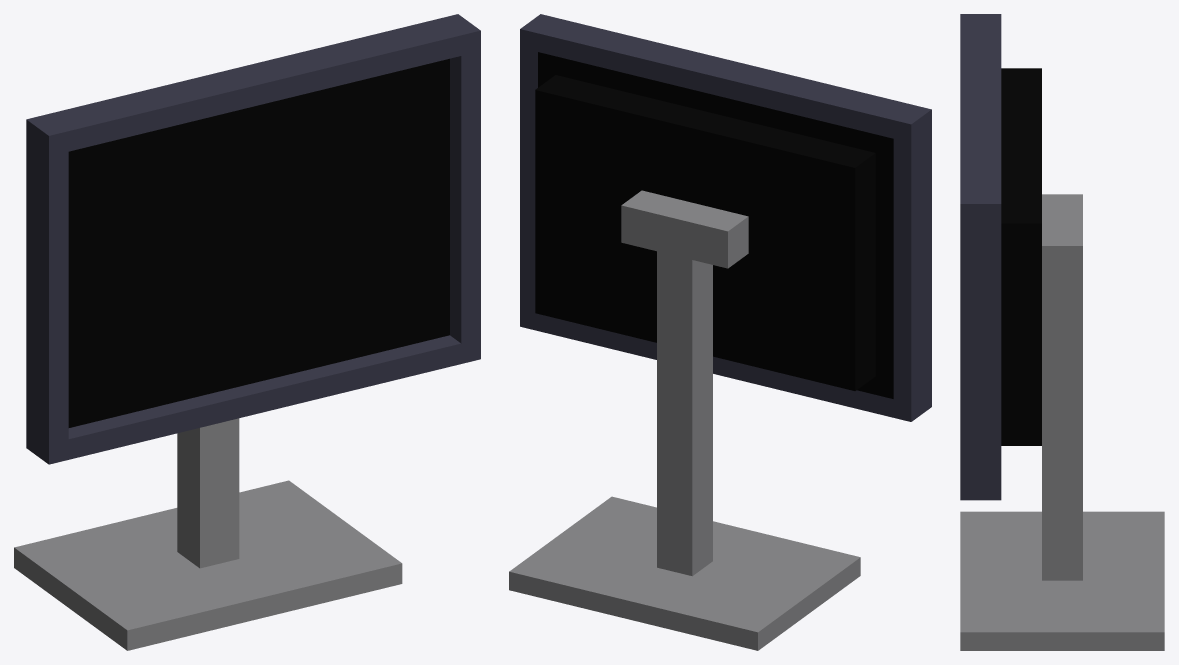
The model's file is monitor.obj.
3 renders of one model, left to right at view 1: azimuth 30°, elevation 25°; view 2: azimuth 150°, elevation 25°; view 3: azimuth 270°, elevation 25°, orthographic. The views are drawn at different scales.
Size of the model in its own units: 2.2 by 2.6 by 1.
